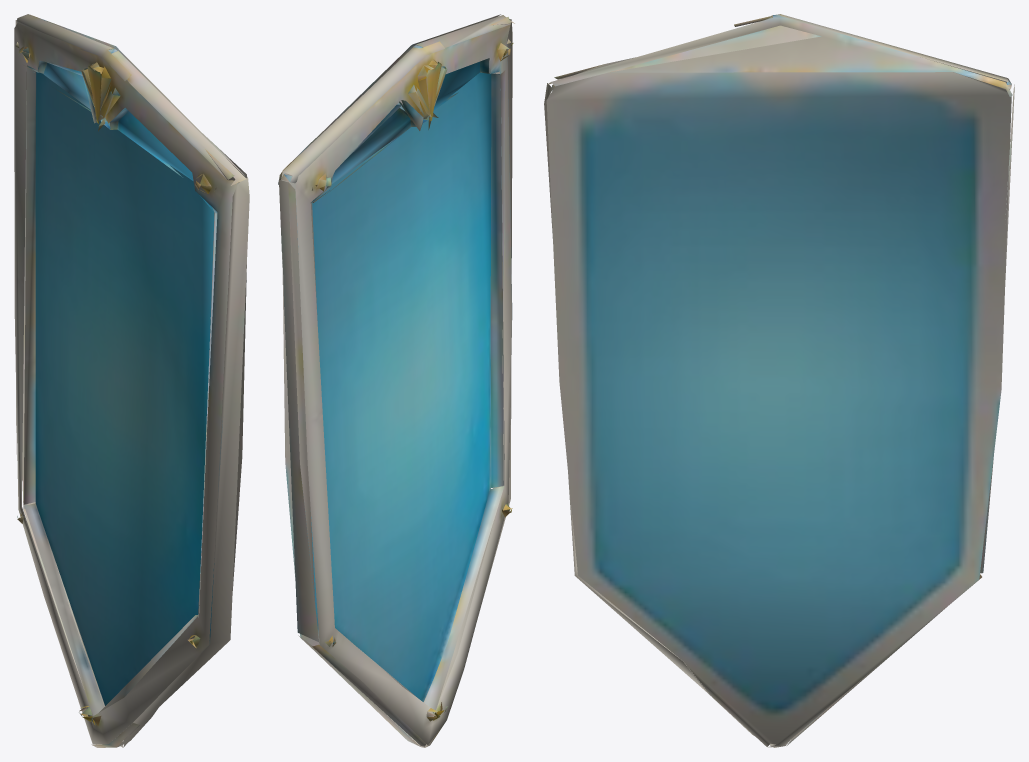
Rendered from f_shield_crest_lod1.fbx.
The picture shows the model from 3 angles, left to right: view 1: azimuth 30°, elevation 25°; view 2: azimuth 150°, elevation 25°; view 3: azimuth 270°, elevation 25°; orthographic projection. The views are drawn at different scales.
Parts seen in each view (by area): view 1: tripo_node_d08e33fb-cc45-4417-9677-bc32c2269758; view 2: tripo_node_d08e33fb-cc45-4417-9677-bc32c2269758; view 3: tripo_node_d08e33fb-cc45-4417-9677-bc32c2269758.
Boxes of the visible parts, bbox=[...] form: tripo_node_d08e33fb-cc45-4417-9677-bc32c2269758: bbox=[14, 14, 249, 747]; tripo_node_d08e33fb-cc45-4417-9677-bc32c2269758: bbox=[278, 14, 514, 747]; tripo_node_d08e33fb-cc45-4417-9677-bc32c2269758: bbox=[544, 14, 1014, 747].
Bounding box in the file's own units: 0.0823 × 0.9545 × 0.5554.
